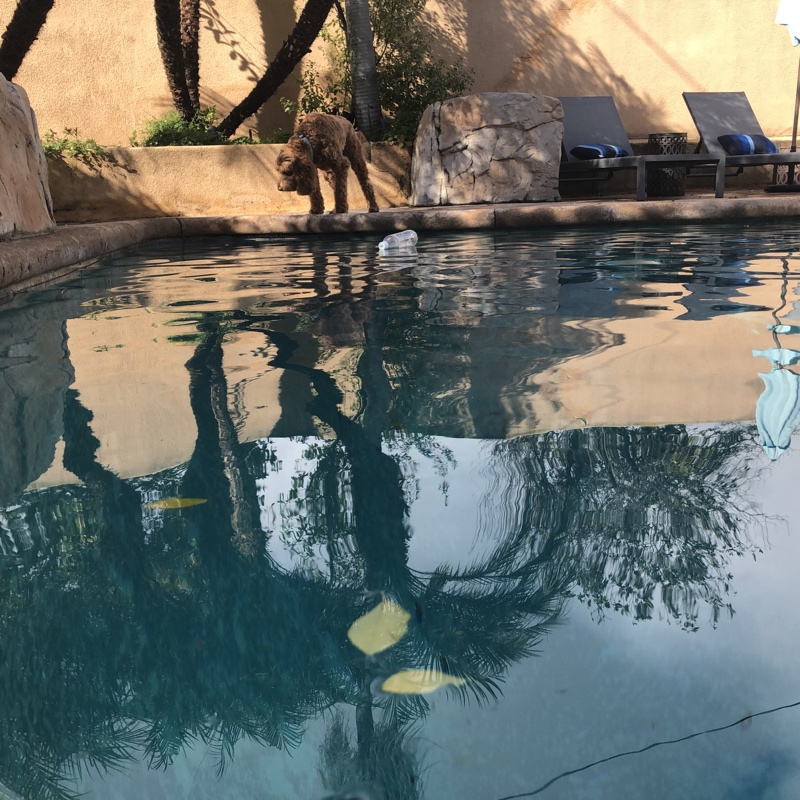Plastic Bottle: (380, 229, 418, 250)
